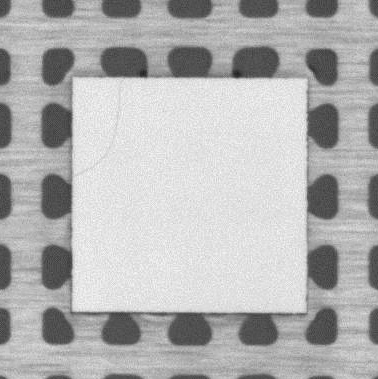DIE_CRACK: (72, 78, 124, 178)
